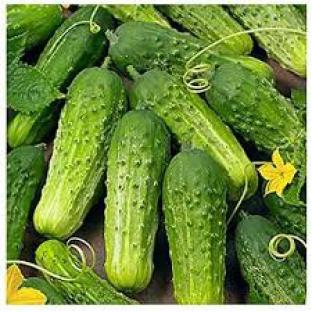Cucumber: (131, 70, 257, 199), (34, 68, 124, 238), (206, 63, 306, 203), (104, 110, 170, 291), (163, 150, 227, 303), (37, 240, 135, 305), (37, 6, 112, 90), (236, 215, 306, 303), (229, 5, 306, 76), (109, 23, 206, 77), (7, 146, 44, 259), (157, 5, 244, 45), (7, 5, 62, 49), (265, 195, 306, 238), (103, 5, 170, 27), (23, 278, 66, 305)
